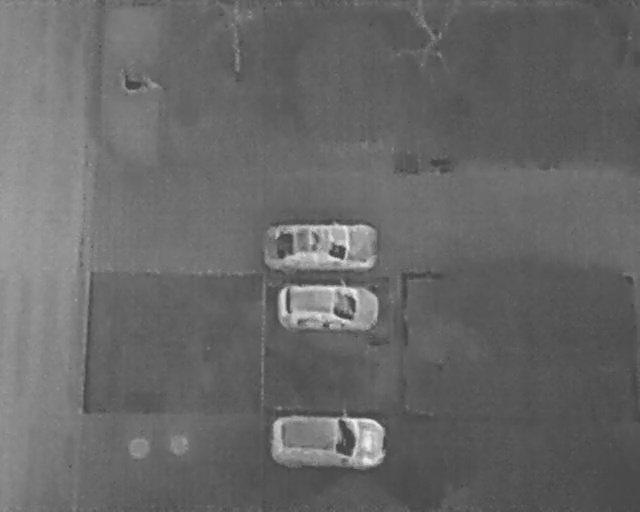Bicycle: (122, 70, 161, 93)
Car: (269, 409, 390, 472), (263, 222, 378, 271), (276, 281, 381, 333)
